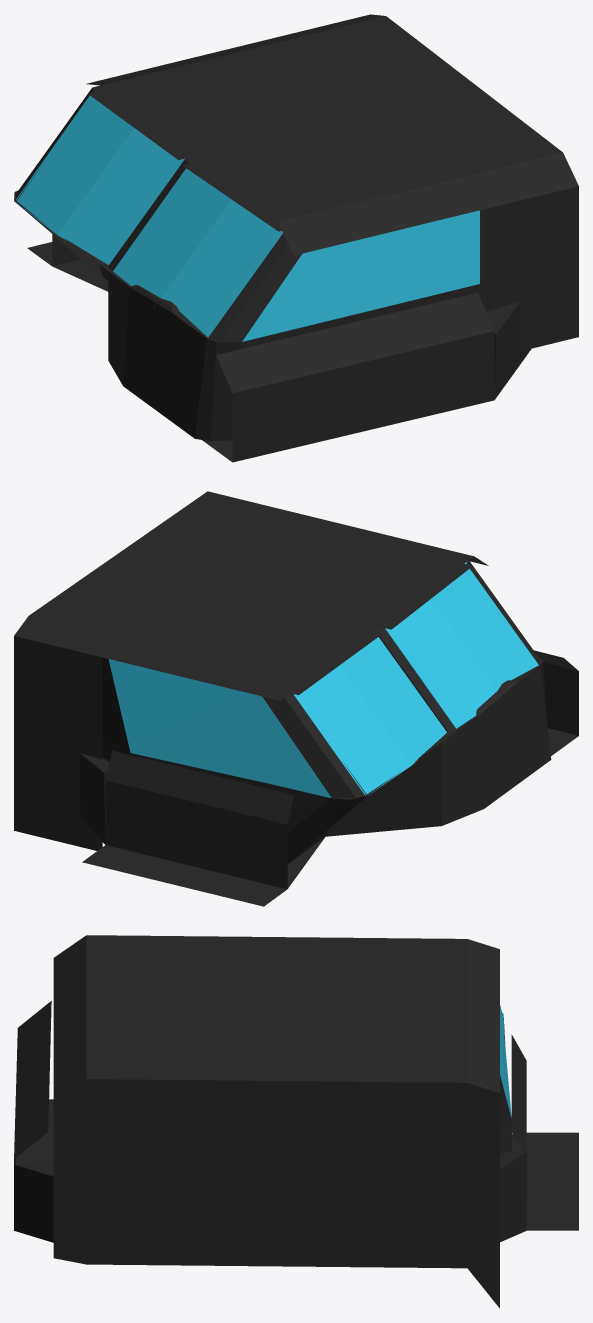
Rendered from cabine1.fbx.
The picture shows the model from 3 angles, top to bottom: view 1: azimuth 30°, elevation 25°; view 2: azimuth 150°, elevation 25°; view 3: azimuth 270°, elevation 25°; orthographic projection. The views are drawn at different scales.
Visible parts, largest first — view 1: Cube.002, Cube.003, Cube.001; view 2: Cube.002, Cube.003, Cube.001; view 3: Cube.002.
Part boxes in pixels (x1=…): Cube.002: x1=14, y1=14, x2=578, y2=462; Cube.003: x1=16, y1=93, x2=184, y2=264; Cube.001: x1=113, y1=168, x2=282, y2=337; Cube.002: x1=14, y1=491, x2=578, y2=906; Cube.003: x1=294, y1=637, x2=446, y2=795; Cube.001: x1=385, y1=568, x2=538, y2=728; Cube.002: x1=14, y1=935, x2=578, y2=1308.
Bounding box in the file's own units: 801 × 446 × 1011.
